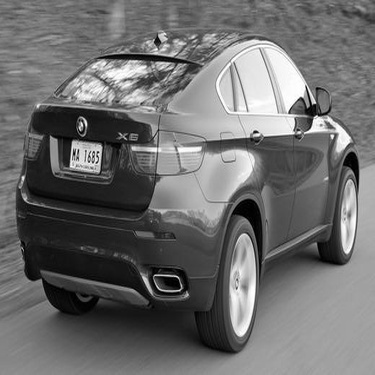car: (5, 21, 365, 355)
